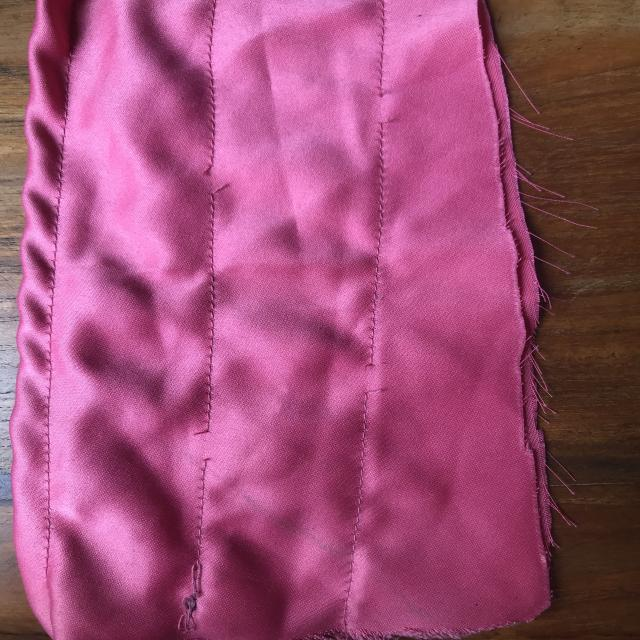broken: (341, 344, 404, 408), (345, 84, 417, 130), (187, 140, 240, 202), (185, 415, 237, 478)
